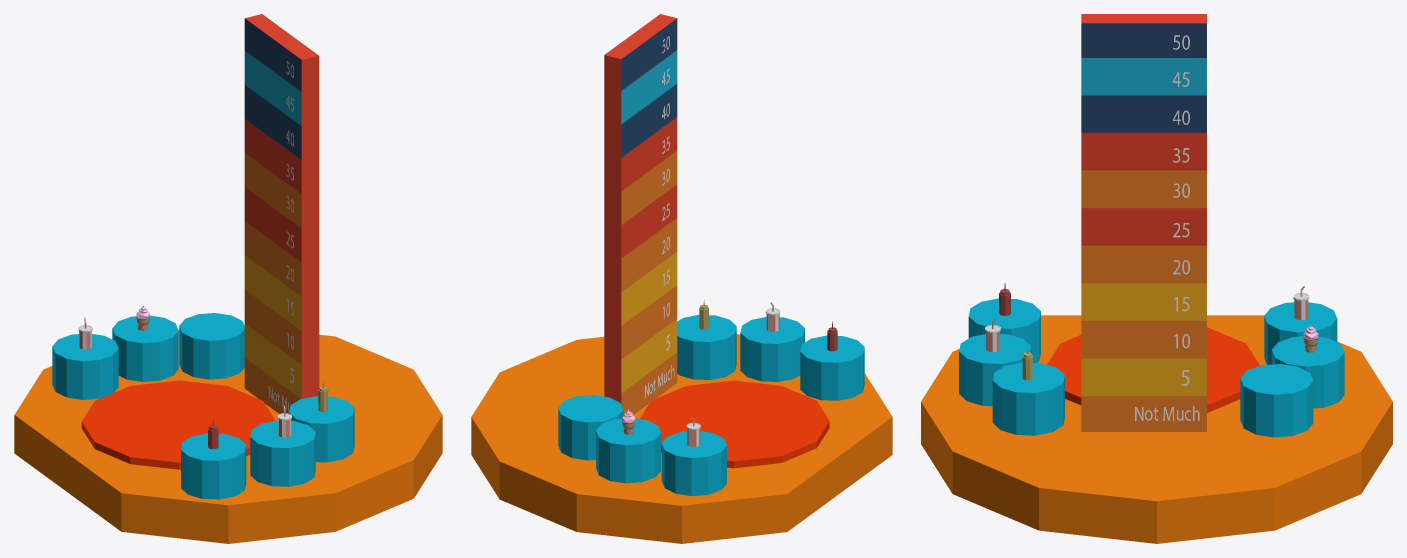
Rendered from score .fbx.
The picture shows the model from 3 angles, left to right: view 1: azimuth 30°, elevation 25°; view 2: azimuth 150°, elevation 25°; view 3: azimuth 270°, elevation 25°; orthographic projection. The views are drawn at different scales.
Visible parts, largest first — view 1: Cylinder.004; view 2: Cylinder.004; view 3: Cylinder.004.
Part boxes in pixels (bbox=[...]): Cylinder.004: bbox=[14, 14, 442, 543]; Cylinder.004: bbox=[471, 14, 892, 543]; Cylinder.004: bbox=[921, 14, 1392, 543].
Size of the model in its own units: 872 by 986 by 935.
9 materials, 3 textured.
